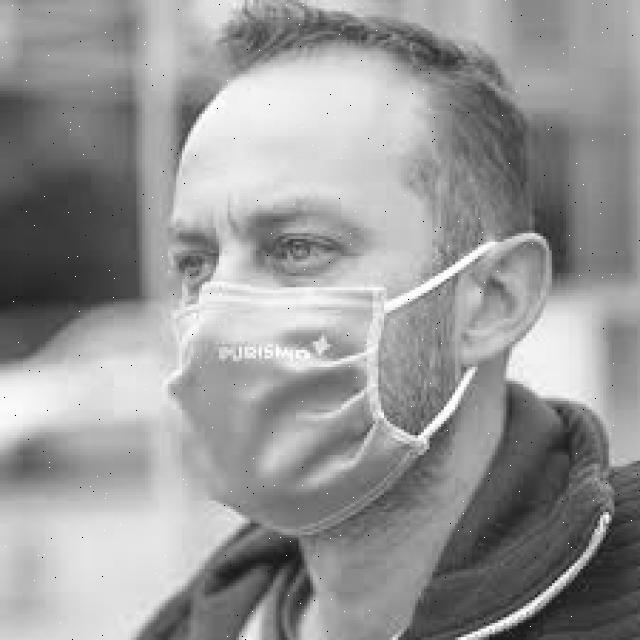fake: (152, 280, 451, 536)
real: (165, 66, 445, 536)
